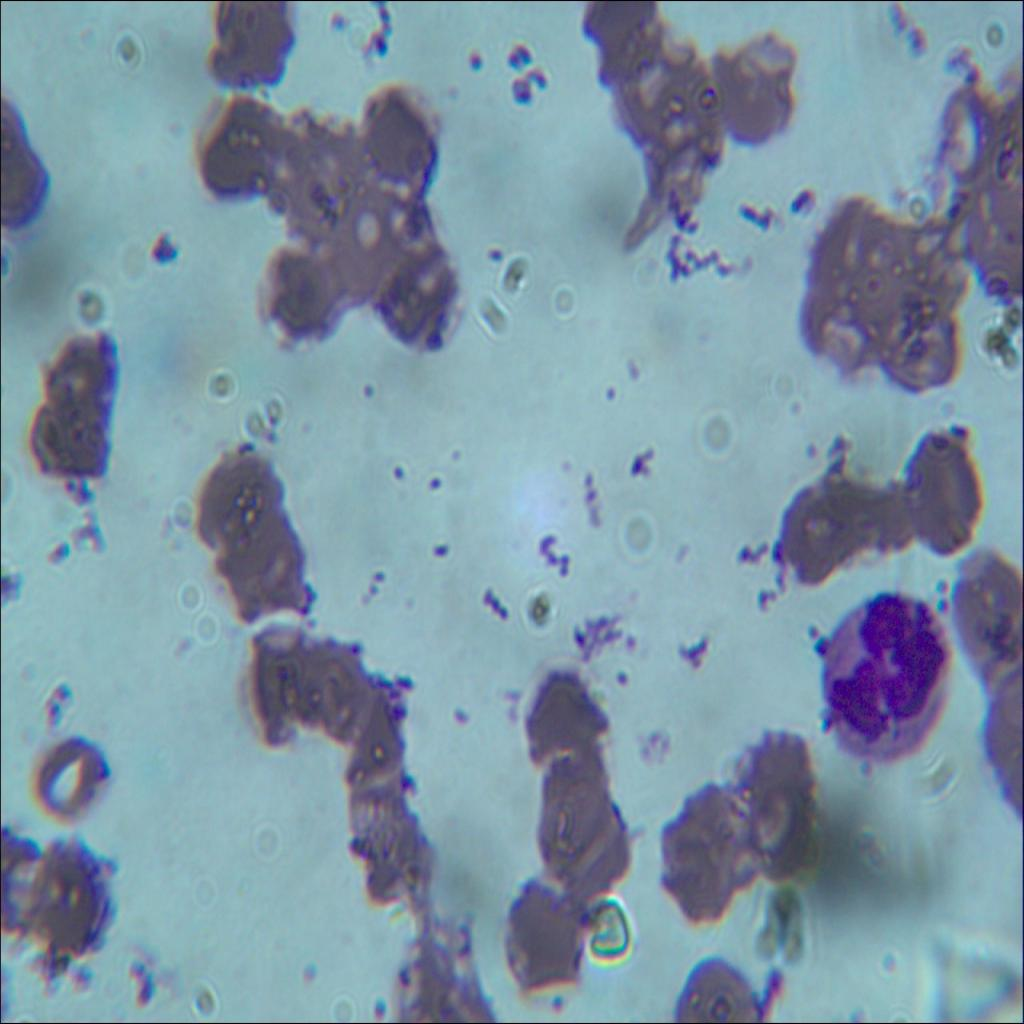Eritrosit: (24, 335, 118, 479), (734, 725, 816, 879), (498, 870, 596, 992), (276, 117, 368, 241), (330, 186, 428, 298), (189, 444, 278, 565), (354, 764, 426, 909), (254, 242, 346, 349), (778, 476, 866, 586), (195, 105, 284, 208), (910, 426, 981, 554), (666, 787, 741, 906), (959, 556, 1023, 695), (355, 87, 439, 191), (648, 92, 722, 209), (371, 255, 461, 351), (24, 838, 102, 948), (554, 799, 635, 904), (839, 465, 923, 564), (204, 0, 295, 89), (246, 628, 318, 735), (519, 658, 598, 752), (803, 275, 879, 371), (582, 0, 674, 79), (721, 42, 798, 129), (234, 518, 302, 616), (302, 638, 368, 738), (32, 737, 106, 819), (542, 754, 599, 855), (624, 51, 689, 126)
Neutrofil: (821, 589, 955, 760)
Platelet: (870, 285, 966, 402), (872, 230, 958, 324), (803, 204, 883, 298), (446, 692, 475, 749), (539, 989, 581, 1023), (289, 954, 326, 988), (460, 41, 490, 78), (354, 369, 378, 411), (608, 664, 634, 702), (383, 458, 408, 497), (363, 994, 393, 1023), (424, 462, 446, 501), (622, 354, 648, 385), (615, 627, 639, 659), (394, 959, 418, 989), (598, 380, 620, 410), (429, 531, 450, 562), (482, 239, 506, 264), (932, 572, 954, 595), (939, 595, 955, 621)
